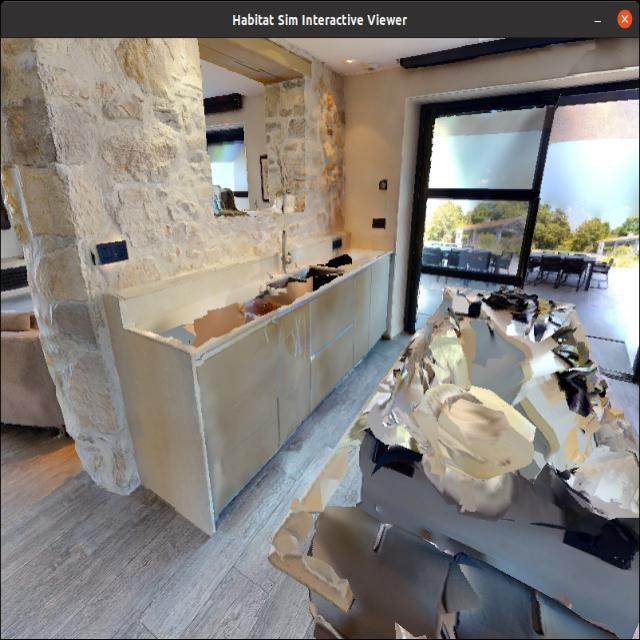table: (342, 273, 638, 640)
